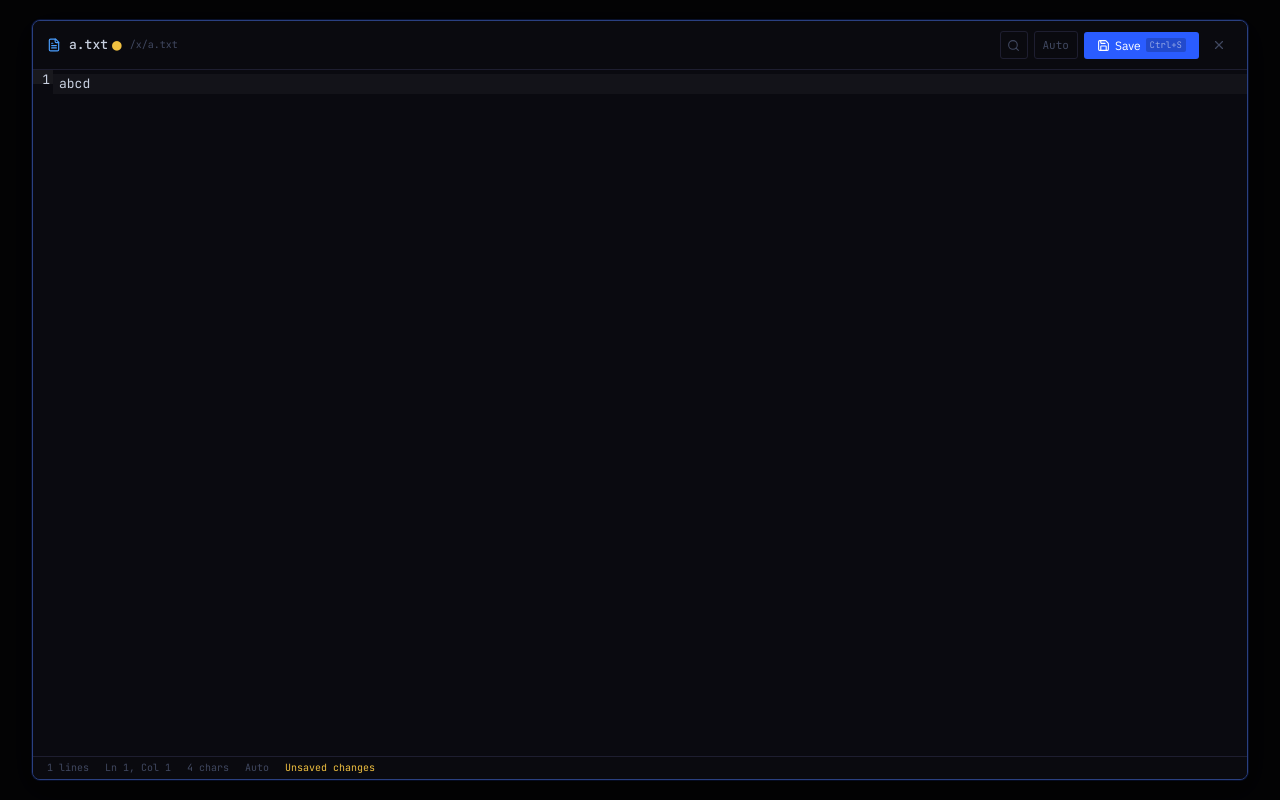
TextEditor 저장 가드 (Todo #76) › TES-03: 확인창 "저장"이 실패하면 닫지 않고 편집 내용 유지 + 오류 표시
Click the button titled "Close (Esc)": (1219, 45) [1205,31,1233,59]
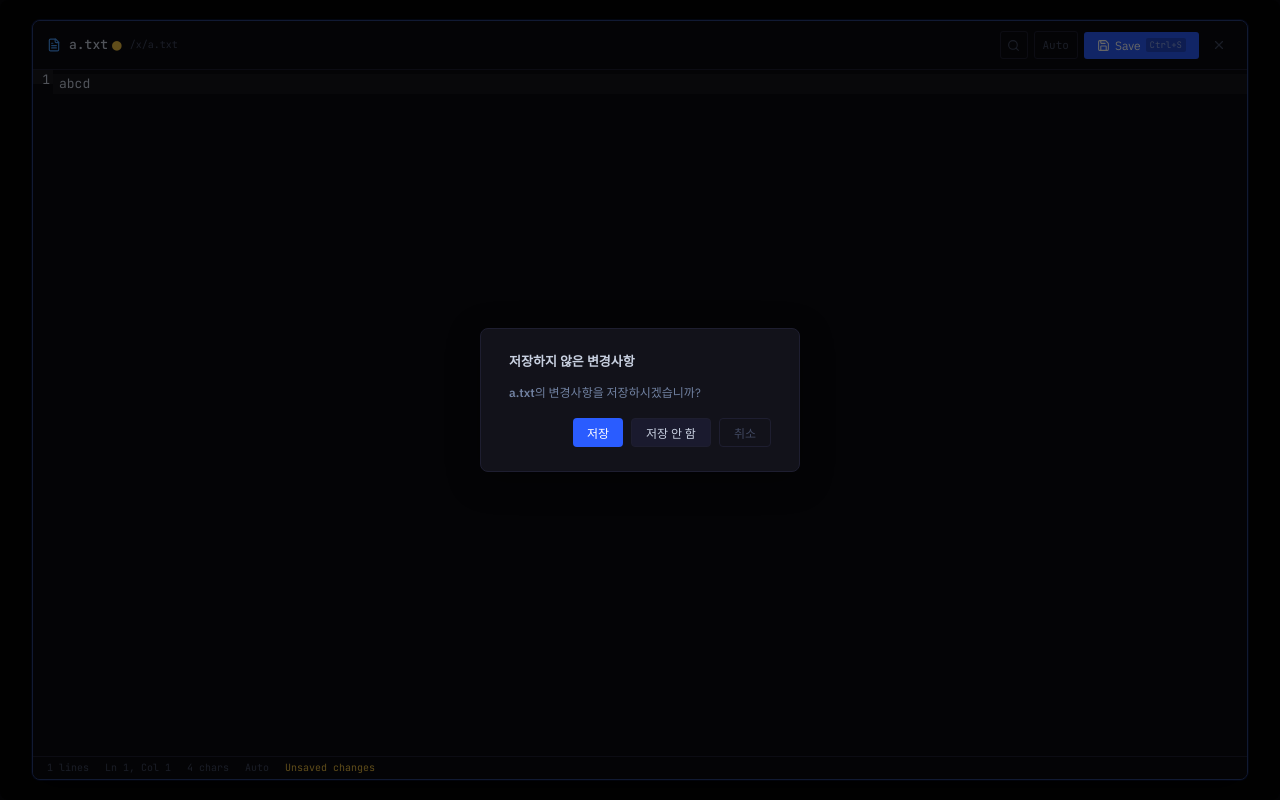
Click the button "저장": (598, 432) [573,418,623,447]
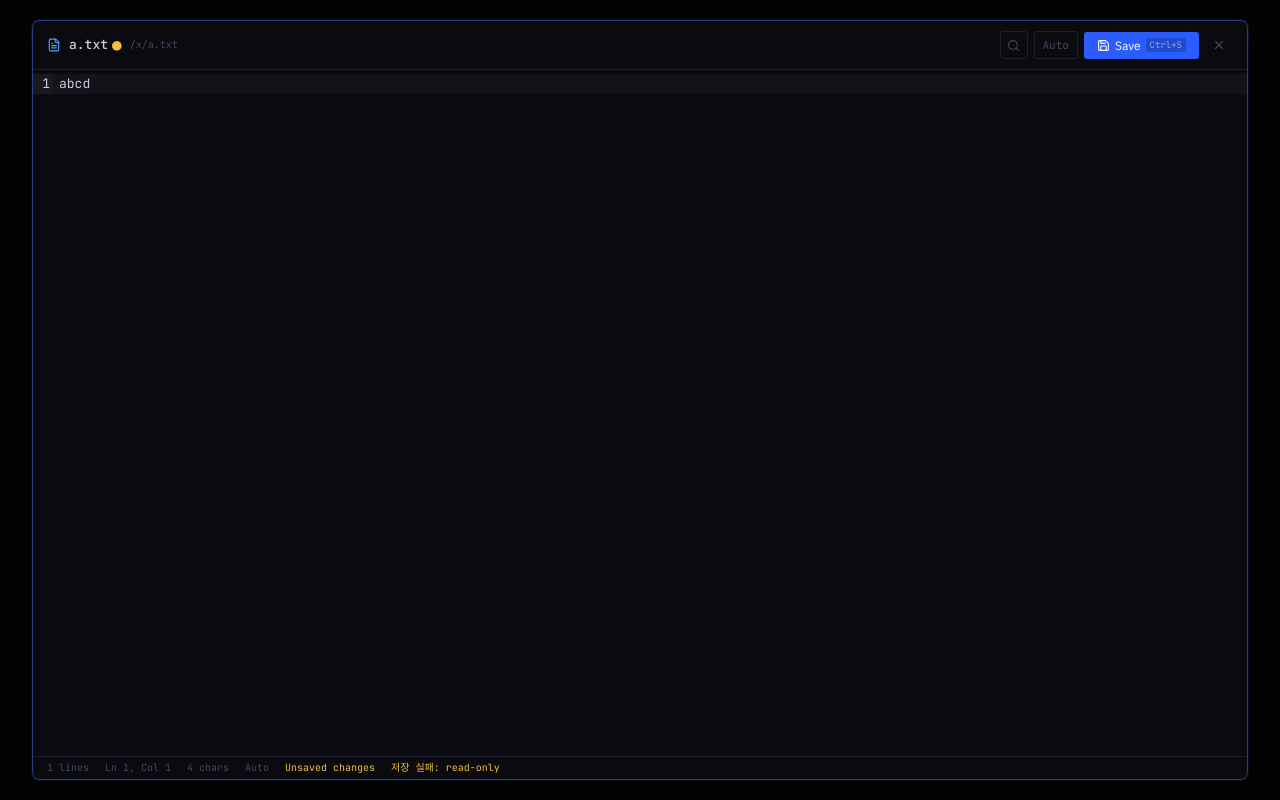
Expected: the element showing "1 abcd" is shown, [33,74,1247,94]
Expected: the text "저장 실패: read-only" is shown, [391,761,500,775]
